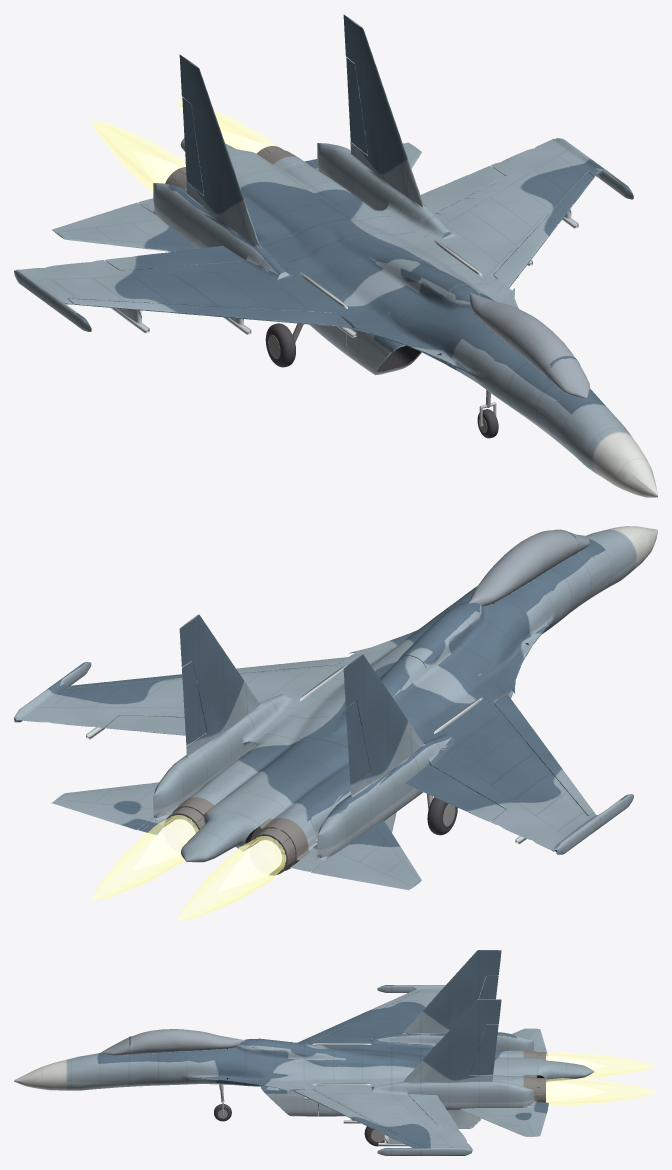
The picture shows the model from 3 angles, top to bottom: view 1: azimuth 30°, elevation 25°; view 2: azimuth 150°, elevation 25°; view 3: azimuth 270°, elevation 25°; orthographic projection. The views are drawn at different scales.
Visible parts, largest first — view 1: fsim:section:tail, fsim:section:nose, fsim:section:right-wing, fsim:section:left-wing, fsim:section:centre, fsim:lef@-2,30 (×2), fsim:elevator+aileron:-0.4@-20,15, fsim:afterburner:1, fsim:rudder (×2), fsim:aileron+flaps:-1@-20,20, fsim:aileron+flaps:1@-20,20, fsim:afterburner:0 (+2 smaller); view 2: fsim:section:tail, fsim:section:right-wing, fsim:section:centre, fsim:section:nose, fsim:section:left-wing, fsim:afterburner:1, fsim:elevator+aileron:-0.4@-20,15, fsim:afterburner:0, fsim:lef@-2,30 (×2), fsim:elevator+aileron:0.4@-20,15, fsim:rudder (×2), fsim:aileron+flaps:-1@-20,20 (+3 smaller); view 3: fsim:section:tail, fsim:section:nose, fsim:section:centre, fsim:section:left-wing, fsim:section:right-wing, fsim:afterburner:0, fsim:lef@-2,30 (×2), fsim:elevator+aileron:0.4@-20,15, fsim:afterburner:1, fsim:rudder (×2), fsim:aileron+flaps:1@-20,20, fsim:speedbrake:0.942478 (+1 smaller).
Part boxes in pixels (x1,y1,x2,y2): fsim:section:tail: [48, 14, 626, 329]; fsim:section:nose: [435, 297, 657, 497]; fsim:section:right-wing: [14, 229, 397, 355]; fsim:section:left-wing: [371, 138, 604, 301]; fsim:section:centre: [81, 185, 633, 375]; fsim:lef@-2,30 (×2): [68, 172, 594, 327]; fsim:elevator+aileron:-0.4@-20,15: [52, 202, 198, 251]; fsim:afterburner:1: [91, 120, 185, 192]; fsim:rudder (×2): [182, 57, 367, 195]; fsim:aileron+flaps:-1@-20,20: [105, 245, 244, 270]; fsim:aileron+flaps:1@-20,20: [420, 166, 505, 213]; fsim:afterburner:0: [177, 100, 275, 153]; fsim:section:tail: [61, 614, 627, 871]; fsim:section:right-wing: [390, 671, 618, 854]; fsim:section:centre: [83, 585, 633, 806]; fsim:section:nose: [455, 526, 657, 645]; fsim:section:left-wing: [14, 648, 392, 751]; fsim:afterburner:1: [177, 836, 285, 921]; fsim:elevator+aileron:-0.4@-20,15: [311, 820, 421, 890]; fsim:afterburner:0: [91, 815, 198, 900]; fsim:lef@-2,30 (×2): [68, 657, 594, 815]; fsim:elevator+aileron:0.4@-20,15: [52, 782, 158, 830]; fsim:rudder (×2): [182, 661, 370, 785]; fsim:aileron+flaps:-1@-20,20: [405, 764, 505, 821]; fsim:section:tail: [386, 950, 594, 1155]; fsim:section:nose: [14, 1029, 234, 1090]; fsim:section:centre: [222, 985, 394, 1155]; fsim:section:left-wing: [275, 1078, 472, 1155]; fsim:section:right-wing: [296, 985, 445, 1050]; fsim:afterburner:0: [546, 1078, 657, 1105]; fsim:lef@-2,30 (×2): [294, 990, 419, 1147]; fsim:elevator+aileron:0.4@-20,15: [460, 1107, 547, 1136]; fsim:afterburner:1: [546, 1052, 657, 1078]; fsim:rudder (×2): [470, 975, 498, 1075]; fsim:aileron+flaps:1@-20,20: [408, 1094, 457, 1126]; fsim:speedbrake:0.942478: [258, 1038, 316, 1056].
Size of the model in its own units: 14.68 by 6.11 by 24.31.
13 materials, 1 textured.
